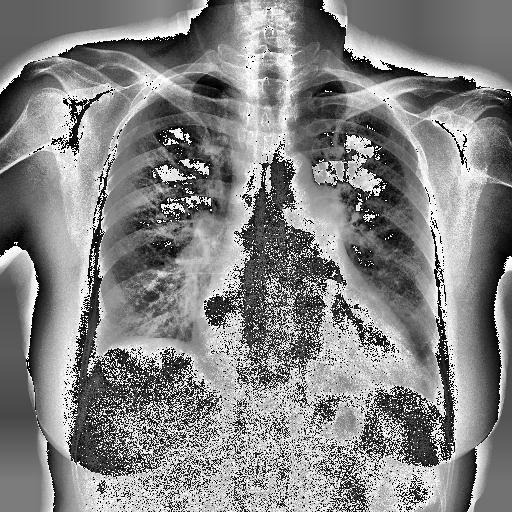0- Aortic enlargement: (272, 152, 314, 204)
3- Cardiomegaly: (192, 300, 422, 416), (196, 284, 420, 397), (193, 308, 424, 394)
